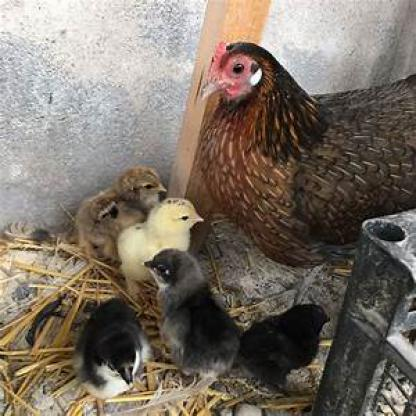chicken: (195, 40, 414, 269), (138, 247, 242, 377), (78, 296, 152, 414), (75, 165, 168, 257), (118, 197, 204, 286), (242, 302, 332, 382)
